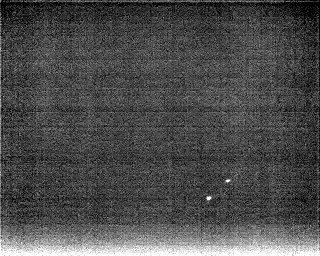BIRD: (223, 176, 233, 186)
